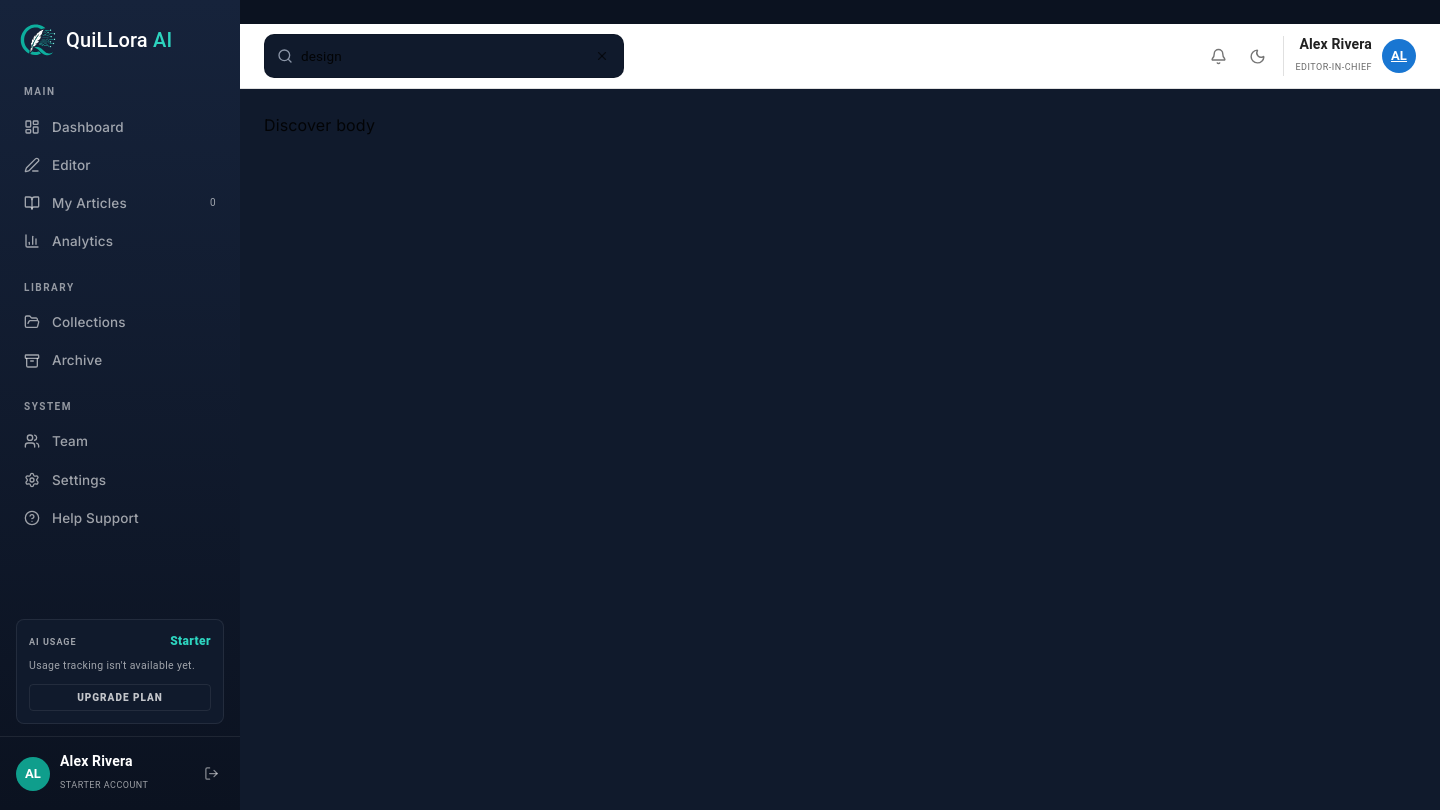
topbar search › clears the box and drops the query parameter
Check: the field named "search articles, collections and people" holds "design", box [301,42,585,70]
Click the button named "clear search".
click(602, 56)  # box [593,47,611,65]
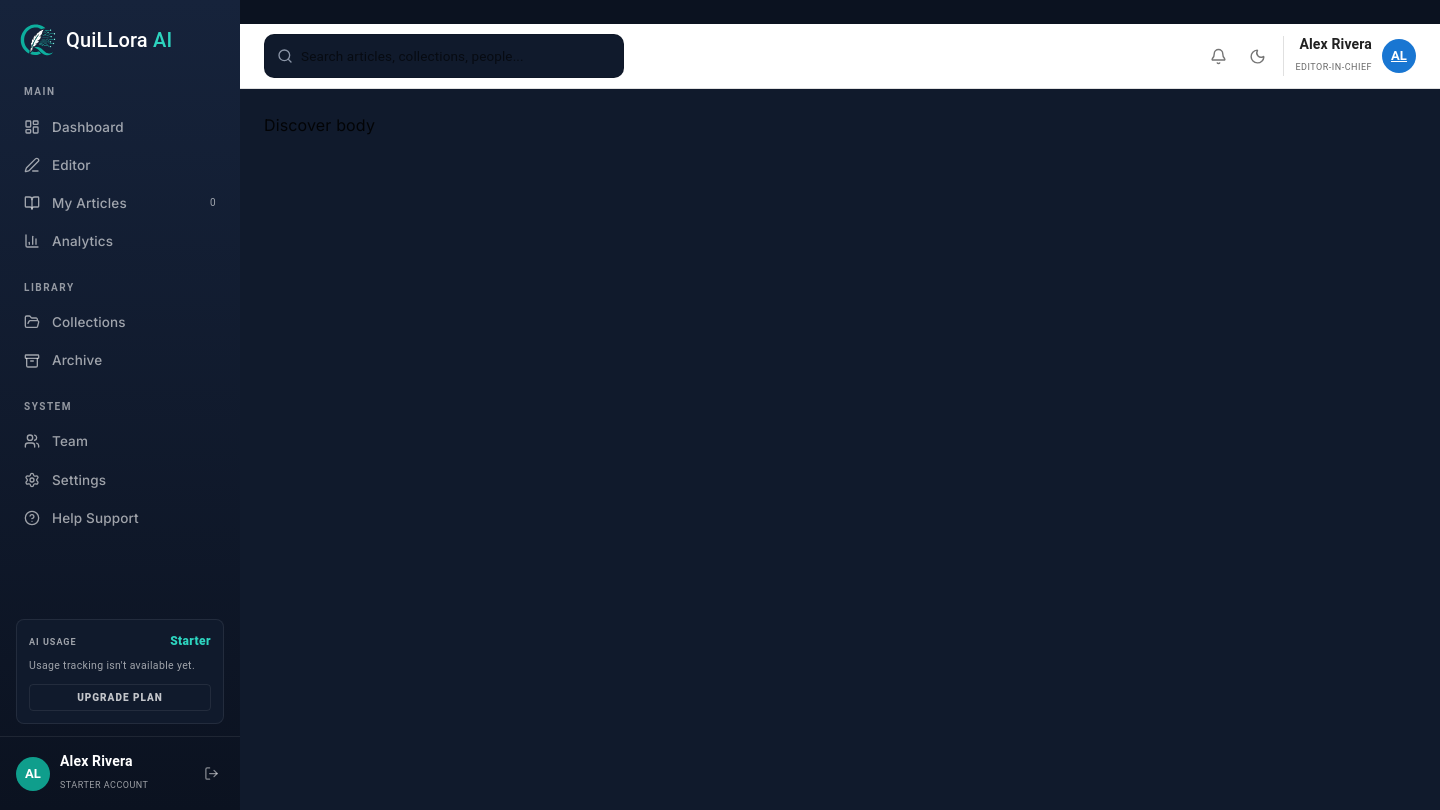
Check: the text with test id "location" does not show "q="
Check: the field named "search articles, collections and people" is empty, box [301,42,611,70]
